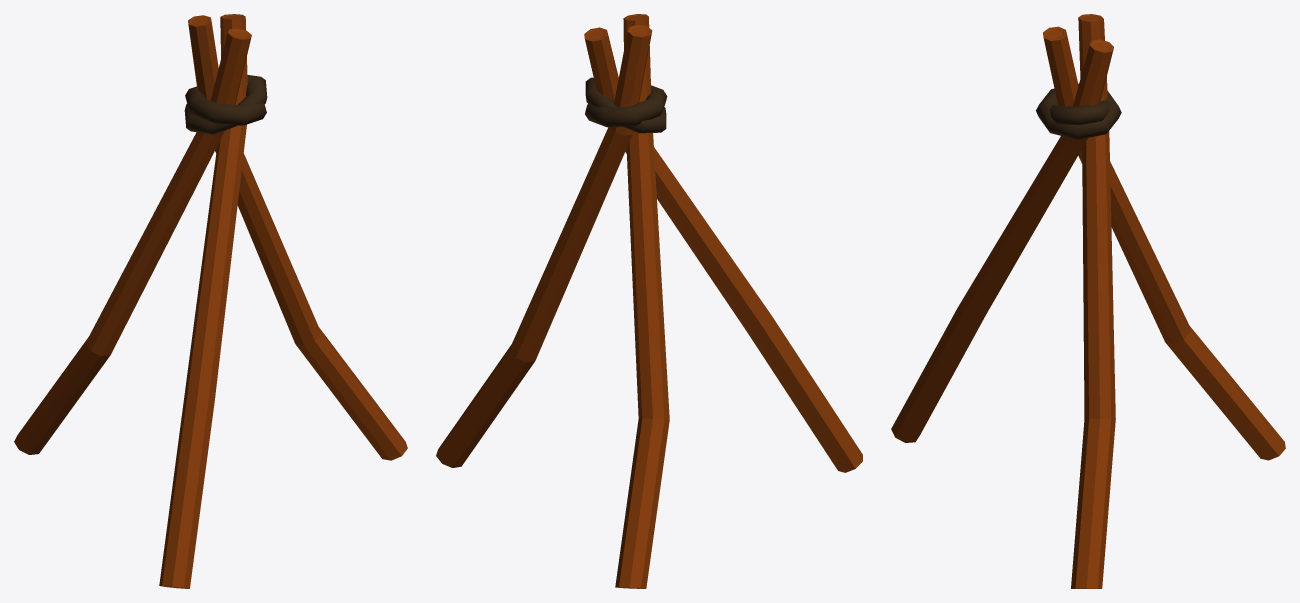
The model's file is CookingSet_01.fbx.
3 views of the same model, side by side, from view 1: azimuth 30°, elevation 25°; view 2: azimuth 150°, elevation 25°; view 3: azimuth 270°, elevation 25° (orthographic).
Visible parts, largest first — view 1: CookingSet_01; view 2: CookingSet_01; view 3: CookingSet_01.
Boxes of the visible parts, <box> form: CookingSet_01: <box>14,14,407,588</box>; CookingSet_01: <box>436,14,862,588</box>; CookingSet_01: <box>891,14,1285,588</box>.
Size of the model in its own units: 77.27 by 107 by 78.81.
